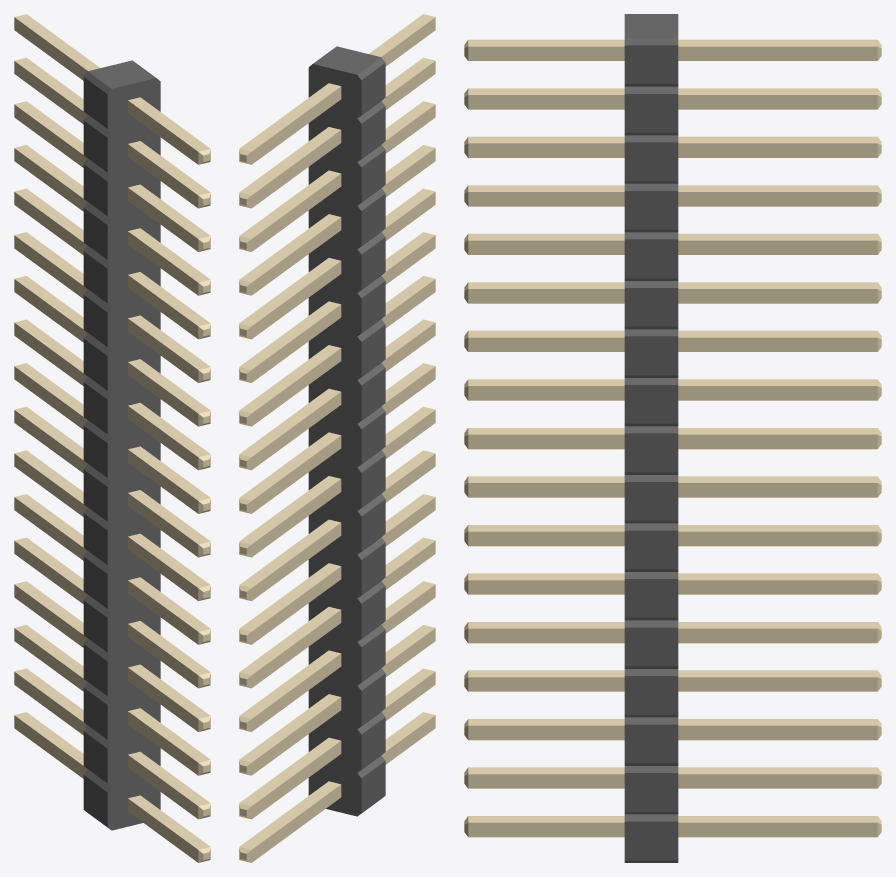
The model's file is PinHeader_1x17_P1.00mm_Vertical.glb.
The picture shows the model from 3 angles, left to right: view 1: azimuth 30°, elevation 25°; view 2: azimuth 150°, elevation 25°; view 3: azimuth 270°, elevation 25°; orthographic projection. The views are drawn at different scales.
Parts seen in each view (by area): view 1: Shape_IndexedFaceSet.003, Shape_IndexedFaceSet.001, Shape_IndexedFaceSet.237, Shape_IndexedFaceSet.178, Shape_IndexedFaceSet.169, Shape_IndexedFaceSet.110, Shape_IndexedFaceSet.193, Shape_IndexedFaceSet.203, Shape_IndexedFaceSet.215, Shape_IndexedFaceSet.222, Shape_IndexedFaceSet.226, Shape_IndexedFaceSet.233 (+75 smaller); view 2: Shape_IndexedFaceSet.004, Shape_IndexedFaceSet.237, Shape_IndexedFaceSet.178, Shape_IndexedFaceSet.215, Shape_IndexedFaceSet.226, Shape_IndexedFaceSet.185, Shape_IndexedFaceSet.193, Shape_IndexedFaceSet.174, Shape_IndexedFaceSet.186, Shape_IndexedFaceSet.195, Shape_IndexedFaceSet.198, Shape_IndexedFaceSet.209 (+75 smaller); view 3: Shape_IndexedFaceSet.191, Shape_IndexedFaceSet.200, Shape_IndexedFaceSet.207, Shape_IndexedFaceSet.212, Shape_IndexedFaceSet.231, Shape_IndexedFaceSet.176, Shape_IndexedFaceSet.180, Shape_IndexedFaceSet.183, Shape_IndexedFaceSet.188, Shape_IndexedFaceSet.197, Shape_IndexedFaceSet.205, Shape_IndexedFaceSet.217 (+74 smaller).
Boxes of the visible parts, x1,y1,x2,y2 form: Shape_IndexedFaceSet.003: (107, 78, 160, 830); Shape_IndexedFaceSet.001: (88, 60, 155, 88); Shape_IndexedFaceSet.237: (14, 672, 87, 734); Shape_IndexedFaceSet.178: (14, 235, 87, 298); Shape_IndexedFaceSet.169: (128, 755, 198, 818); Shape_IndexedFaceSet.110: (128, 319, 198, 382); Shape_IndexedFaceSet.193: (14, 366, 87, 429); Shape_IndexedFaceSet.203: (14, 584, 87, 647); Shape_IndexedFaceSet.215: (14, 497, 87, 560); Shape_IndexedFaceSet.222: (14, 104, 87, 167); Shape_IndexedFaceSet.226: (14, 148, 87, 211); Shape_IndexedFaceSet.233: (14, 715, 87, 778); Shape_IndexedFaceSet.004: (308, 64, 361, 816); Shape_IndexedFaceSet.237: (251, 741, 341, 818); Shape_IndexedFaceSet.178: (251, 304, 341, 382); Shape_IndexedFaceSet.215: (251, 566, 341, 644); Shape_IndexedFaceSet.226: (251, 217, 341, 295); Shape_IndexedFaceSet.185: (251, 348, 341, 426); Shape_IndexedFaceSet.193: (251, 435, 341, 513); Shape_IndexedFaceSet.174: (251, 261, 341, 338); Shape_IndexedFaceSet.186: (251, 479, 341, 556); Shape_IndexedFaceSet.195: (251, 392, 341, 469); Shape_IndexedFaceSet.198: (251, 697, 341, 775); Shape_IndexedFaceSet.209: (251, 610, 341, 687); Shape_IndexedFaceSet.191: (678, 434, 877, 449); Shape_IndexedFaceSet.200: (678, 725, 877, 740); Shape_IndexedFaceSet.207: (678, 628, 877, 643); Shape_IndexedFaceSet.212: (678, 531, 877, 546); Shape_IndexedFaceSet.231: (678, 822, 877, 837); Shape_IndexedFaceSet.176: (678, 240, 877, 254); Shape_IndexedFaceSet.180: (678, 289, 877, 303); Shape_IndexedFaceSet.183: (678, 337, 877, 351); Shape_IndexedFaceSet.188: (678, 483, 877, 497); Shape_IndexedFaceSet.197: (678, 386, 877, 400); Shape_IndexedFaceSet.205: (678, 677, 877, 691); Shape_IndexedFaceSet.217: (678, 580, 877, 594).
Bounding box in the file's own units: 0.5 × 6.69 × 3.07.
